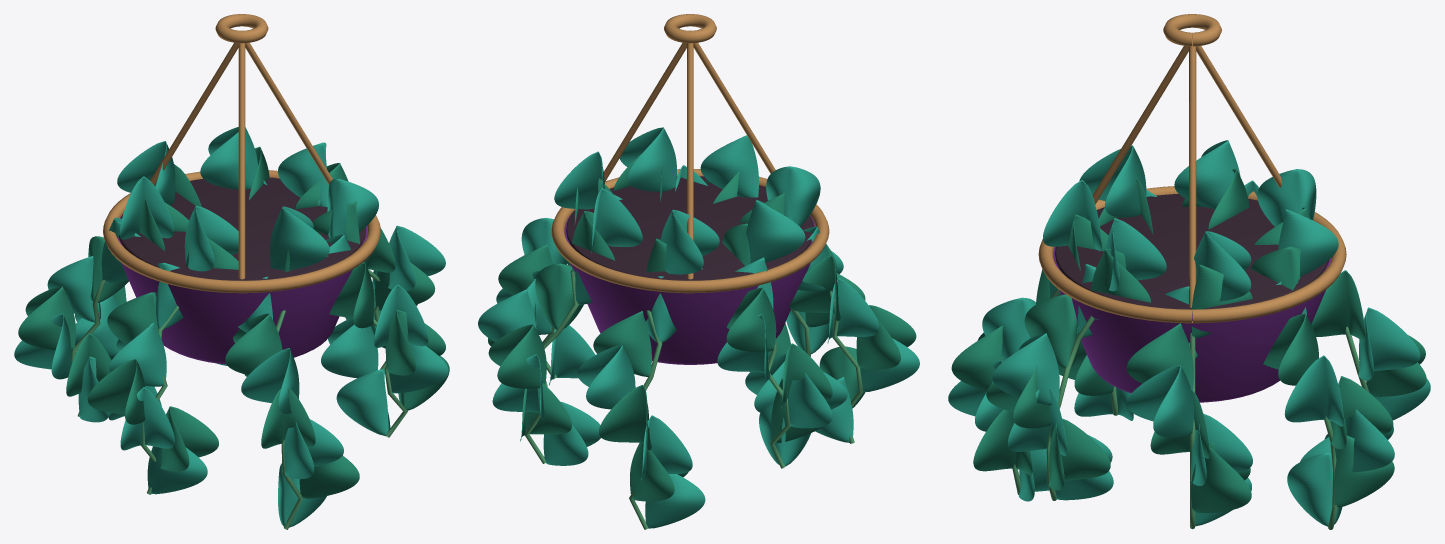
The model's file is hanging_ivy.glb.
The picture shows the model from 3 angles, left to right: view 1: azimuth 30°, elevation 25°; view 2: azimuth 150°, elevation 25°; view 3: azimuth 270°, elevation 25°; orthographic projection. The views are drawn at different scales.
Parts seen in each view (by area): view 1: Hanging bowl, Soil, Bowl rim, Ivy heart leaf.045, Ivy heart leaf.008, Ivy heart leaf.032, Ivy heart leaf.041, Ivy heart leaf.062, Ivy heart leaf.036, Ivy heart leaf.009, Ivy heart leaf.049, Ivy heart leaf.004 (+39 smaller); view 2: Hanging bowl, Soil, Bowl rim, Ivy heart leaf.054, Ivy heart leaf.014, Ivy heart leaf.022, Ivy heart leaf.018, Ivy heart leaf.027, Ivy heart leaf.030, Ivy heart leaf.045, Ivy heart leaf.041, Ivy heart leaf.033 (+40 smaller); view 3: Hanging bowl, Soil, Bowl rim, Ivy heart leaf.004, Ivy heart leaf.058, Ivy heart leaf.022, Ivy heart leaf.013, Ivy heart leaf.036, Ivy heart leaf.061, Ivy heart leaf.007, Ivy heart leaf.017, Ivy heart leaf.012 (+36 smaller).
Part boxes in pixels (x1,y1,x2,y2): Hanging bowl: [117, 213, 367, 364]; Soil: [119, 177, 365, 280]; Bowl rim: [103, 170, 380, 293]; Ivy heart leaf.045: [269, 206, 329, 270]; Ivy heart leaf.008: [321, 318, 378, 378]; Ivy heart leaf.032: [18, 286, 75, 350]; Ivy heart leaf.041: [87, 358, 145, 424]; Ivy heart leaf.062: [336, 369, 390, 436]; Ivy heart leaf.036: [184, 205, 238, 271]; Ivy heart leaf.009: [200, 127, 257, 189]; Ivy heart leaf.049: [241, 348, 299, 413]; Ivy heart leaf.004: [388, 225, 445, 290]; Hanging bowl: [564, 213, 815, 364]; Soil: [566, 176, 813, 280]; Bowl rim: [551, 169, 829, 293]; Ivy heart leaf.054: [619, 127, 676, 191]; Ivy heart leaf.014: [488, 324, 546, 388]; Ivy heart leaf.022: [577, 345, 635, 409]; Ivy heart leaf.018: [660, 209, 719, 274]; Ivy heart leaf.027: [745, 199, 805, 262]; Ivy heart leaf.030: [726, 287, 776, 351]; Ivy heart leaf.045: [700, 135, 758, 197]; Ivy heart leaf.041: [856, 305, 916, 369]; Ivy heart leaf.033: [788, 372, 847, 428]; Hanging bowl: [1053, 246, 1331, 402]; Soil: [1055, 194, 1328, 309]; Bowl rim: [1038, 186, 1346, 323]; Ivy heart leaf.004: [1126, 365, 1193, 437]; Ivy heart leaf.058: [992, 333, 1059, 405]; Ivy heart leaf.022: [1358, 307, 1420, 380]; Ivy heart leaf.013: [1284, 355, 1343, 426]; Ivy heart leaf.036: [1079, 145, 1146, 217]; Ivy heart leaf.061: [1048, 418, 1110, 490]; Ivy heart leaf.007: [1191, 442, 1251, 512]; Ivy heart leaf.017: [1287, 452, 1342, 526]; Ivy heart leaf.012: [1263, 313, 1318, 385].
Bounding box in the file's own units: 0.5219 × 0.5915 × 0.5285.
